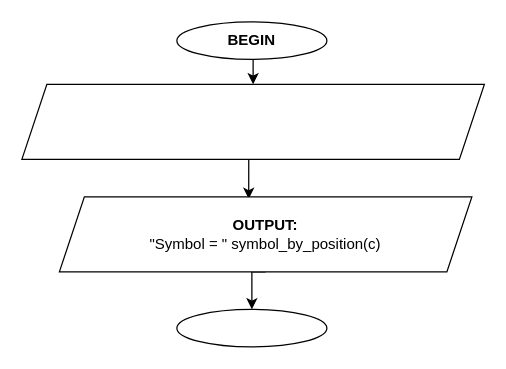
This 506x369 diagram has some shape labels left out. The box of each missing label's shape, as (x1, y1, x2, y2) in pixels:
END: (176, 308, 327, 347)
INPUT: "Enter the character number in the alphabet: " c: (21, 83, 484, 159)
